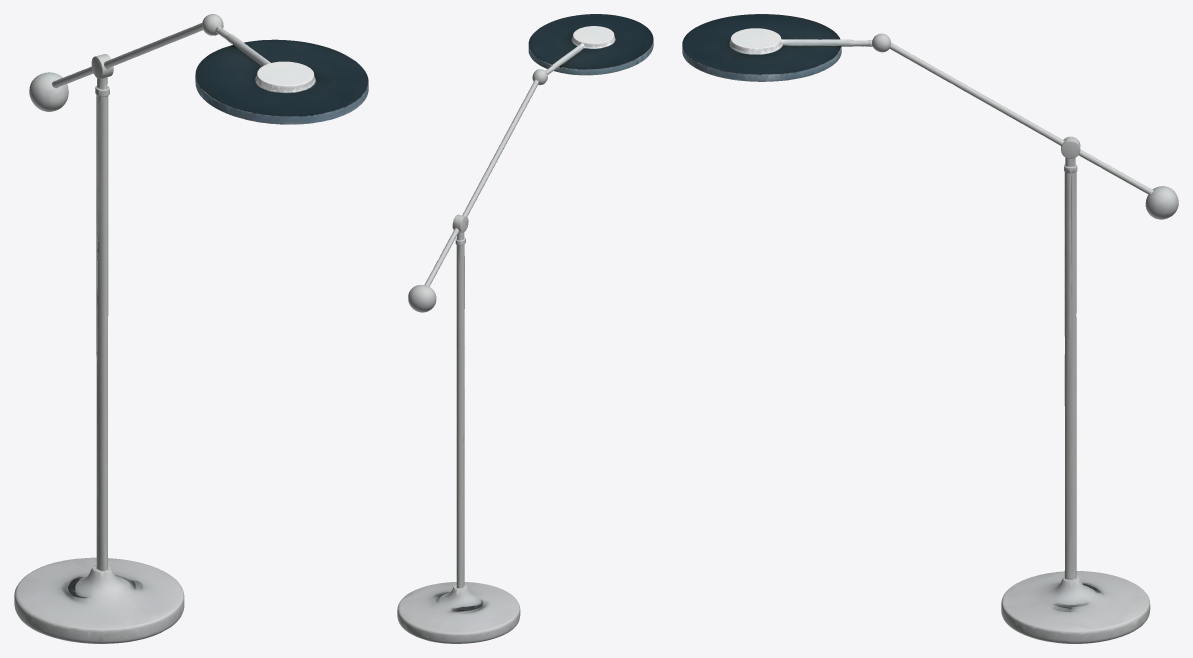
Rendered from lamp.glb.
3 views of the same model, side by side, from view 1: azimuth 30°, elevation 25°; view 2: azimuth 150°, elevation 25°; view 3: azimuth 270°, elevation 25° (orthographic). The views are drawn at different scales.
Visible parts, largest first — view 1: model; view 2: model; view 3: model.
Part boxes in pixels (x1,y1,x2,y2): model: (14,14,368,643); model: (397,14,653,643); model: (682,14,1178,643).
Size of the model in its own units: 0.4311 by 1.9 by 1.47.
1 material, 1 textured.
